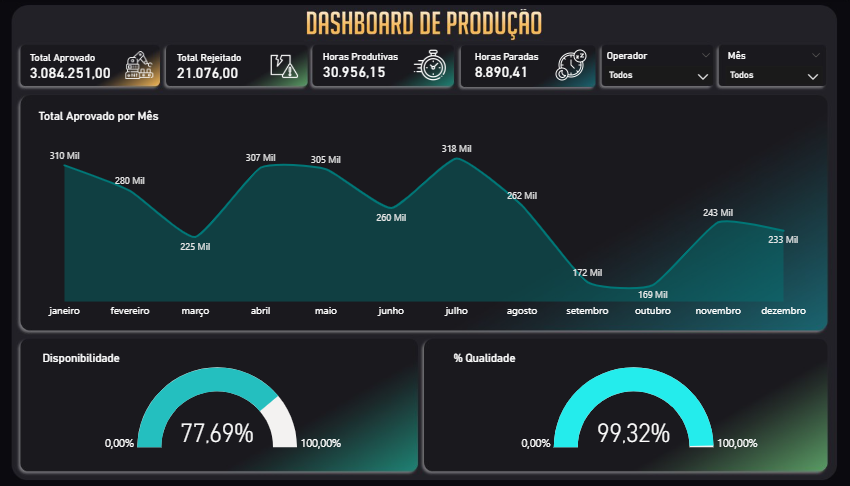

The page's visual inventory and layout, read from the dashboard file:
{"tool":"powerbi","page":{"name":"Página 1","canvas":[1280,720],"ordinal":0},"visuals":[{"type":"cardVisual","fields":{"Data":["BaseProdução.Total Aprovado"]},"box":[32.3,36.7,177.8,124.9],"z":0},{"type":"cardVisual","fields":{"Data":["BaseProdução.Total Rejeitado"]},"box":[248.3,29.4,192.5,139.6],"z":1000},{"type":"cardVisual","fields":{"Data":["BaseProdução.Horas Produtivas"]},"box":[462.9,22,195.4,149.9],"z":2000},{"type":"cardVisual","fields":{"Data":["BaseProdução.Horas Paradas"]},"box":[686.2,22,180.7,149.9],"z":3000},{"type":"areaChart","fields":{"Category":["BaseProdução.Data Inicio.Variation.Hierarquia de datas.Mês"],"Y":["BaseProdução.Total Aprovado"]},"box":[69.1,161.6,1143.2,315.9],"z":4000},{"type":"gauge","fields":{"Y":["BaseProdução.Disponibilidade"]},"box":[74.9,517.2,540.7,151.3],"z":5000},{"type":"gauge","fields":{"Y":["BaseProdução.% Qualidade"]},"box":[678.9,517.2,556.9,151.3],"z":6000},{"type":"slicer","fields":{"Values":["BaseProdução.Operador"]},"box":[896.3,70.5,177.8,60.2],"z":7000},{"type":"slicer","fields":{"Values":["BaseProdução.Data Inicio.Variation.Hierarquia de datas.Mês"]},"box":[1074.1,70.5,161.6,60.2],"z":8000},{"type":"image","box":[196.9,76.4,51.4,41.1],"z":9000},{"type":"image","box":[408.5,70.5,54.4,57.3],"z":10000},{"type":"image","box":[612.7,73.5,73.5,47],"z":11000},{"type":"image","box":[830.2,73.5,52.9,47],"z":12000}]}

Visuals, with their boxes in screenshot pixels (x1, y1, x2, y2), scaled from the page's 1280x720 canvas onto the 850x486 screenshot:
cardVisual - BaseProdução.Total Aprovado: bbox(21, 25, 140, 109)
cardVisual - BaseProdução.Total Rejeitado: bbox(165, 20, 293, 114)
cardVisual - BaseProdução.Horas Produtivas: bbox(307, 15, 437, 116)
cardVisual - BaseProdução.Horas Paradas: bbox(456, 15, 576, 116)
areaChart - BaseProdução.Data Inicio.Variation.Hierarquia de datas.Mês x BaseProdução.Total Aprovado: bbox(46, 109, 805, 322)
gauge - BaseProdução.Disponibilidade: bbox(50, 349, 409, 451)
gauge - BaseProdução.% Qualidade: bbox(451, 349, 821, 451)
slicer - BaseProdução.Operador: bbox(595, 48, 713, 88)
slicer - BaseProdução.Data Inicio.Variation.Hierarquia de datas.Mês: bbox(713, 48, 821, 88)
image: bbox(131, 52, 165, 79)
image: bbox(271, 48, 307, 86)
image: bbox(407, 50, 456, 81)
image: bbox(551, 50, 586, 81)
